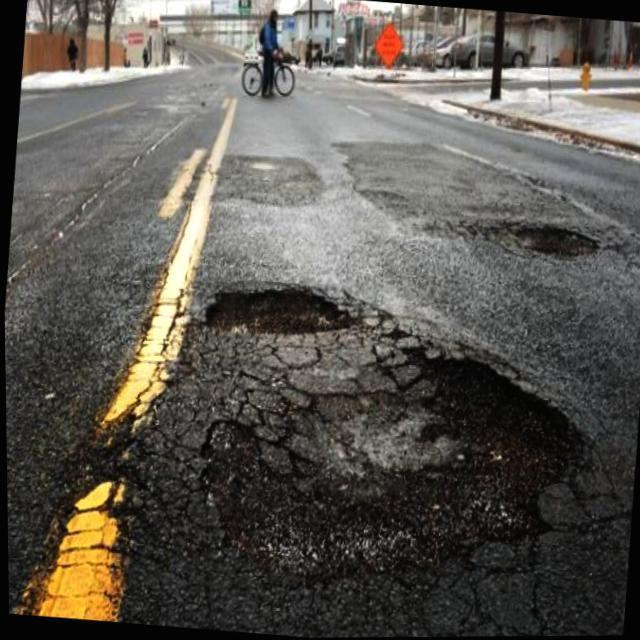Pothole: (197, 356, 593, 584), (198, 285, 351, 343), (502, 218, 594, 255), (238, 158, 280, 175)
